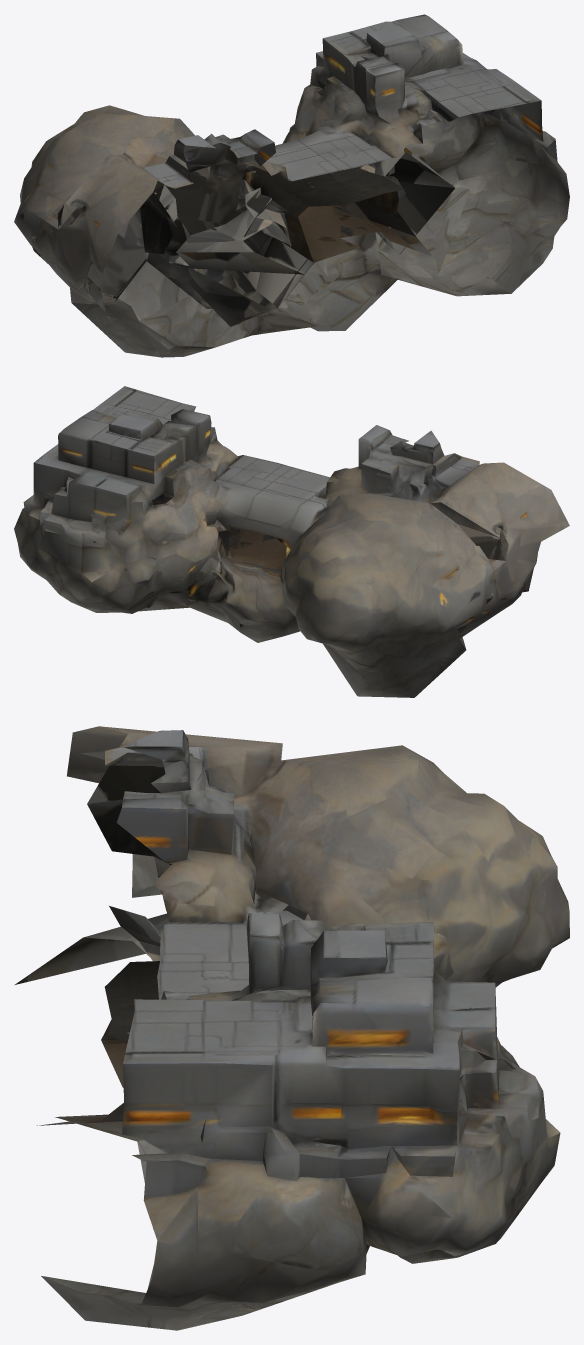
File: bldg_mine_tunnel_back.glb
3 renders of one model, top to bottom at view 1: azimuth 30°, elevation 25°; view 2: azimuth 150°, elevation 25°; view 3: azimuth 270°, elevation 25°, orthographic. The views are drawn at different scales.
Visible parts, largest first — view 1: Mesh_0; view 2: Mesh_0; view 3: Mesh_0.
Boxes of the visible parts, <box> form: Mesh_0: <box>14,14,569,357</box>; Mesh_0: <box>14,386,569,697</box>; Mesh_0: <box>15,726,569,1330</box>.
Size of the model in its own units: 1.83 by 0.851 by 1.07.
Materials: 1 (1 with a texture image).
